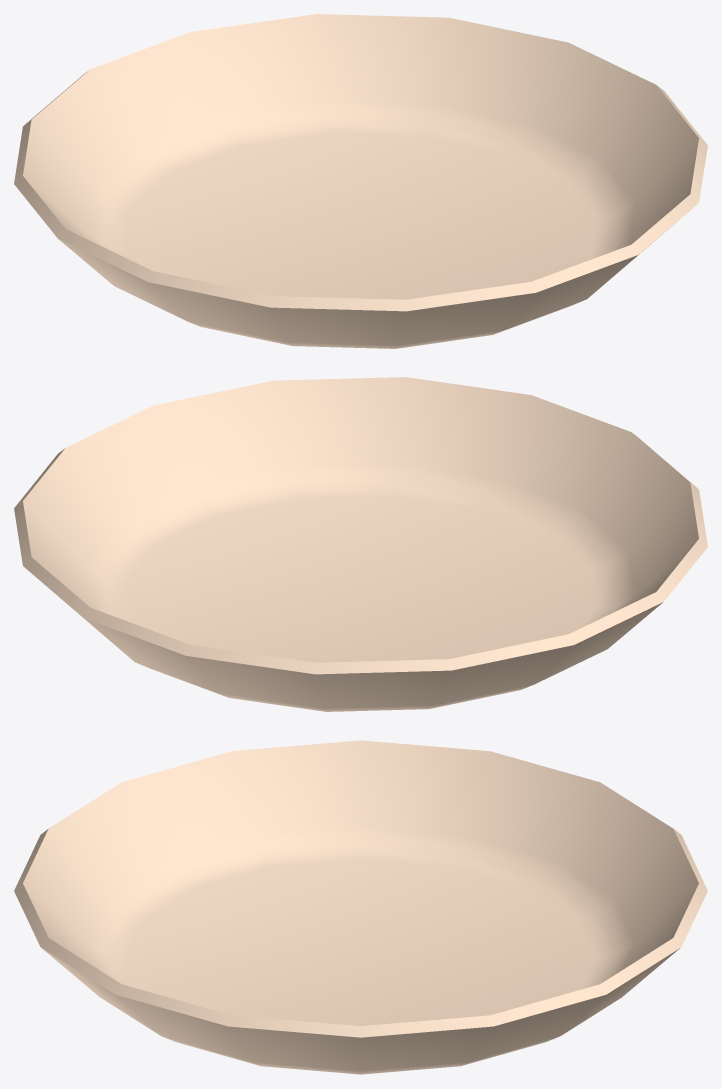
File: Plate_06.fbx
3 views of the same model, one above another, from view 1: azimuth 30°, elevation 25°; view 2: azimuth 150°, elevation 25°; view 3: azimuth 270°, elevation 25° (orthographic).
Visible parts, largest first — view 1: Plate_06; view 2: Plate_06; view 3: Plate_06.
Part boxes in pixels (x1=…): Plate_06: x1=14, y1=14, x2=707, y2=348; Plate_06: x1=14, y1=377, x2=707, y2=711; Plate_06: x1=14, y1=740, x2=707, y2=1074.
Bounding box in the file's own units: 73.06 × 73.06 × 10.
